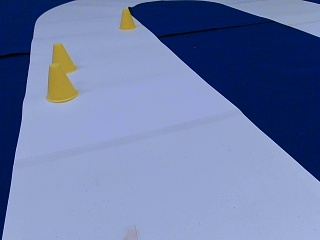cone: (45, 64, 77, 102), (50, 44, 76, 74), (119, 8, 134, 29)
